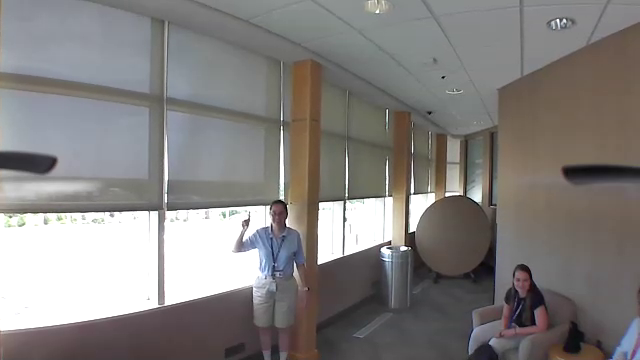up: (239, 210, 253, 232)
